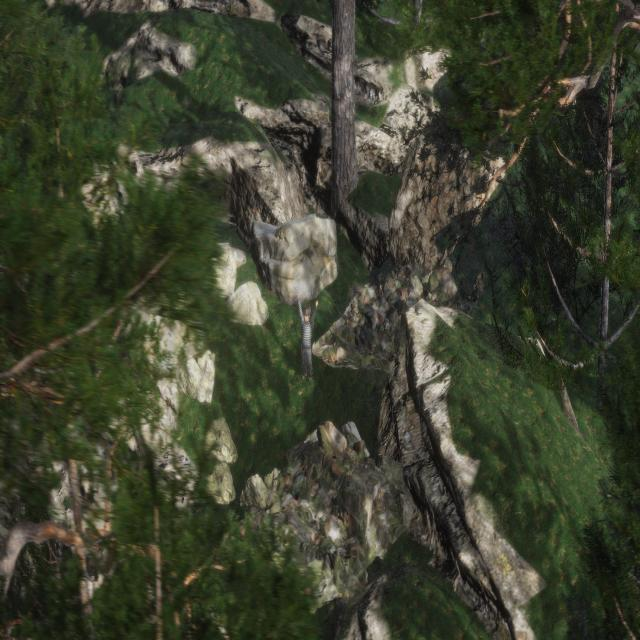Human: (296, 281, 320, 387)
